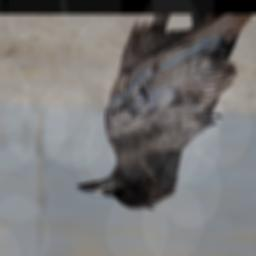Crow: (74, 14, 252, 211)
